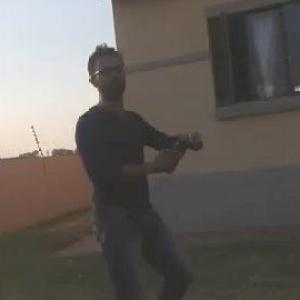follow: (76, 37, 211, 299)
